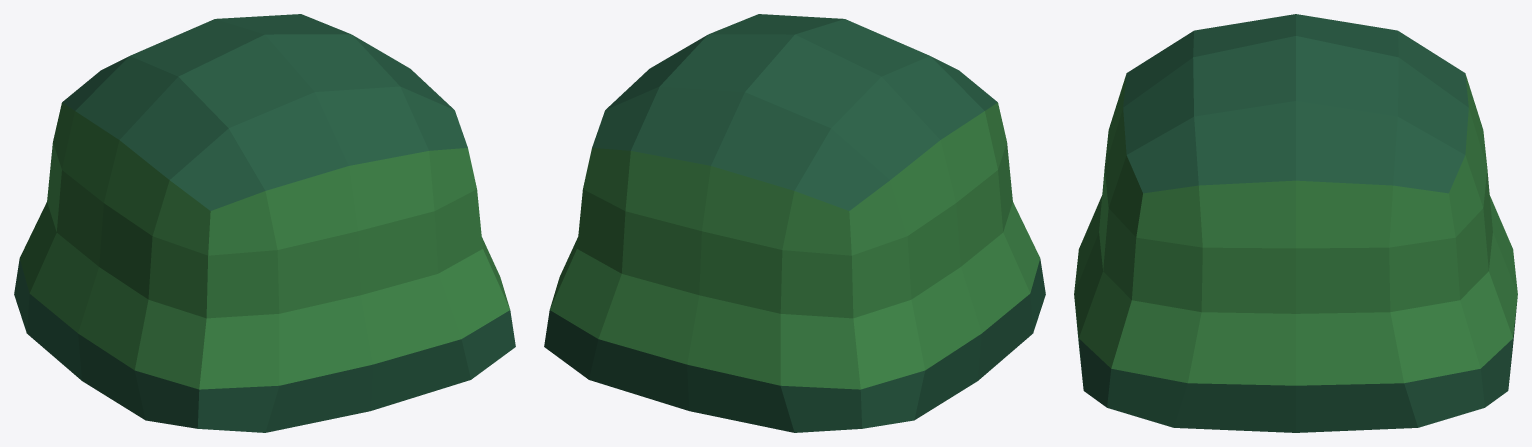
File: Facundo_Valenzuela_Arbusto.fbx
3 views of the same model, side by side, from view 1: azimuth 30°, elevation 25°; view 2: azimuth 150°, elevation 25°; view 3: azimuth 270°, elevation 25° (orthographic). The views are drawn at different scales.
Visible parts, largest first — view 1: Cube; view 2: Cube; view 3: Cube.
Part boxes in pixels (x1,y1,x2,y2): Cube: [14, 14, 515, 432]; Cube: [544, 14, 1045, 432]; Cube: [1074, 14, 1517, 432].
Size of the model in its own units: 179 by 152 by 179.
Materials: 1 (1 with a texture image).
